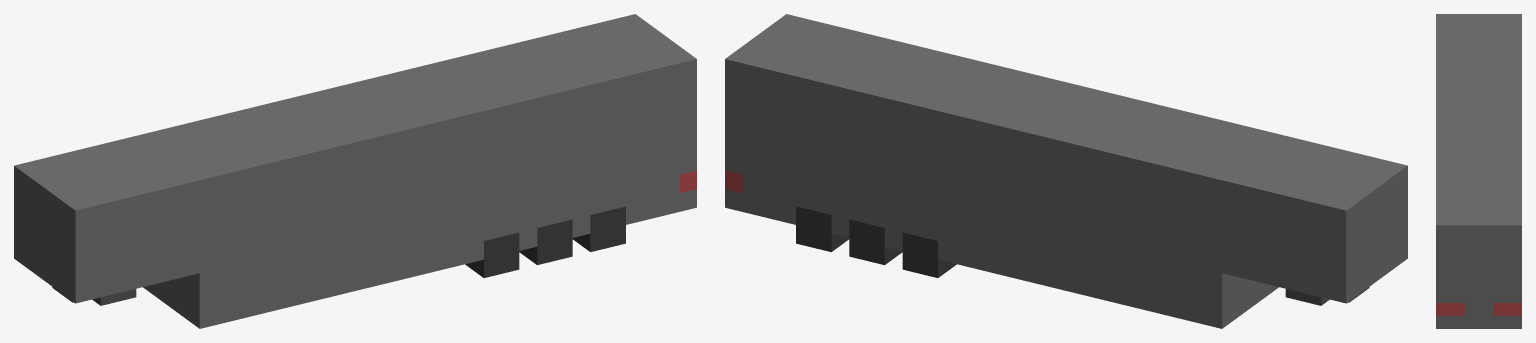
The model's file is semitrailer-v1-grey.gltf.
3 views of the same model, side by side, from view 1: azimuth 30°, elevation 25°; view 2: azimuth 150°, elevation 25°; view 3: azimuth 270°, elevation 25° (orthographic). The views are drawn at different scales.
Visible parts, largest first — view 1: model, wheels; view 2: model, wheels; view 3: model.
Boxes of the visible parts, <box> form: model: <box>14,14,696,328</box>; wheels: <box>465,206,625,277</box>; model: <box>725,14,1407,328</box>; wheels: <box>796,206,956,277</box>; model: <box>1436,14,1521,328</box>.
Bounding box in the file's own units: 3.5 × 0.9 × 0.6.
Materials: 2 (2 with a texture image).
